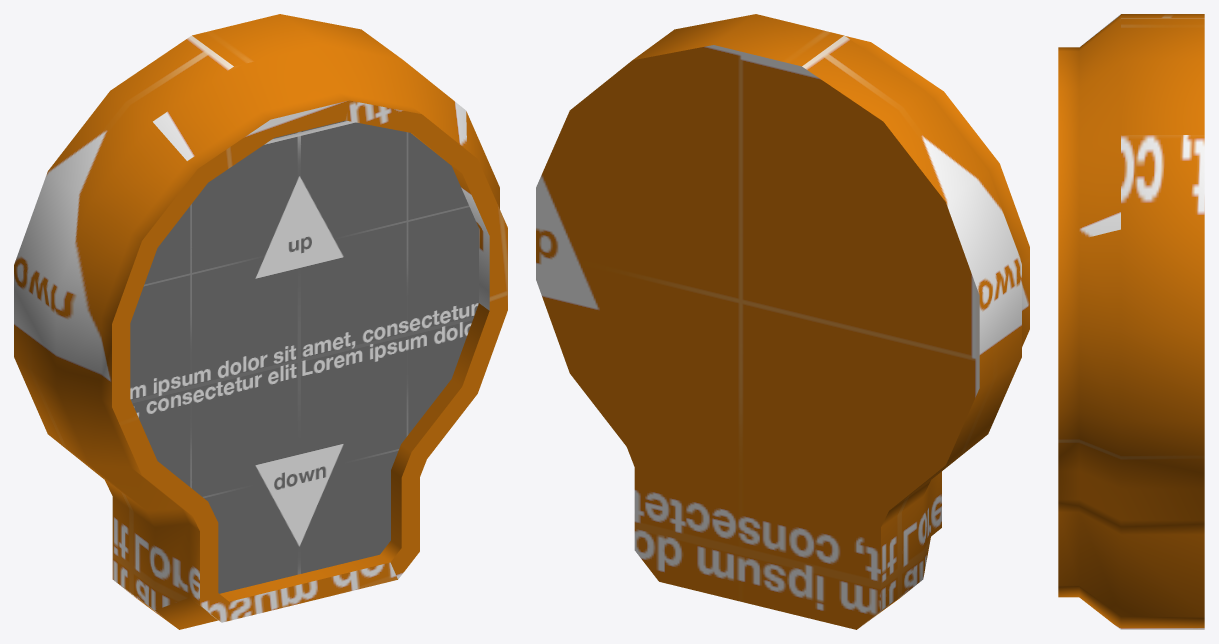
The model's file is light_switch.glb.
3 views of the same model, side by side, from view 1: azimuth 30°, elevation 25°; view 2: azimuth 150°, elevation 25°; view 3: azimuth 270°, elevation 25° (orthographic).
Parts seen in each view (by area): view 1: light_switch; view 2: light_switch; view 3: light_switch.
Part boxes in pixels (bbox=[...]): light_switch: bbox=[14, 14, 507, 629]; light_switch: bbox=[536, 14, 1029, 629]; light_switch: bbox=[1058, 14, 1204, 629].
Bounding box in the file's own units: 0.121 × 0.1434 × 0.035.
Materials: 2 (2 with a texture image).
